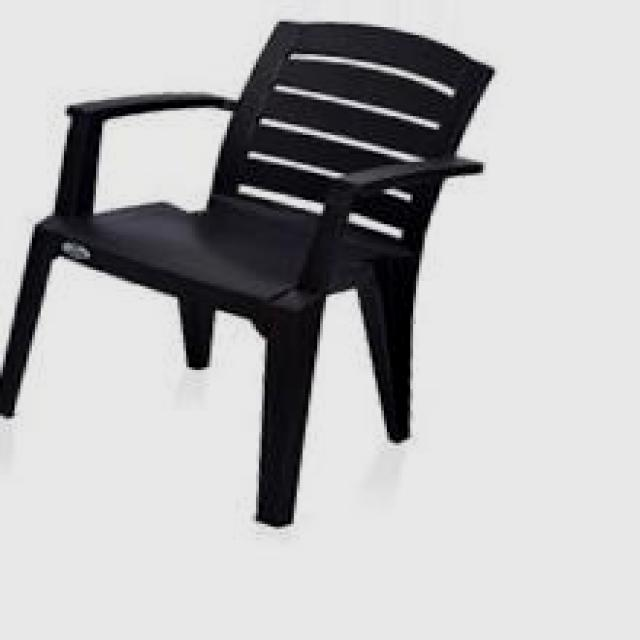Chair: (4, 14, 498, 533)
